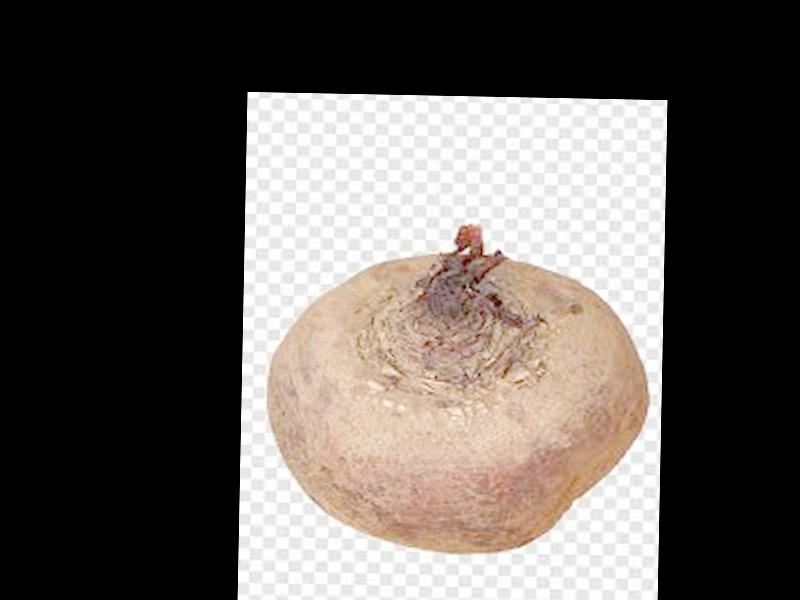Beet: (266, 219, 649, 555)
